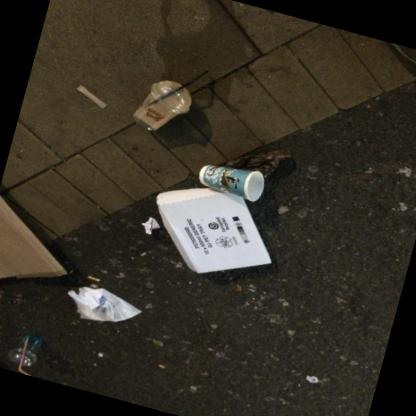Paper: (155, 186, 270, 272), (0, 196, 66, 277), (66, 285, 141, 320), (198, 163, 263, 200), (140, 215, 159, 233), (86, 274, 99, 280)
Plastic: (131, 88, 179, 129), (152, 69, 208, 102), (150, 79, 190, 112), (11, 331, 42, 354), (17, 337, 33, 376), (7, 347, 36, 365)
Waste: (75, 83, 106, 107)
